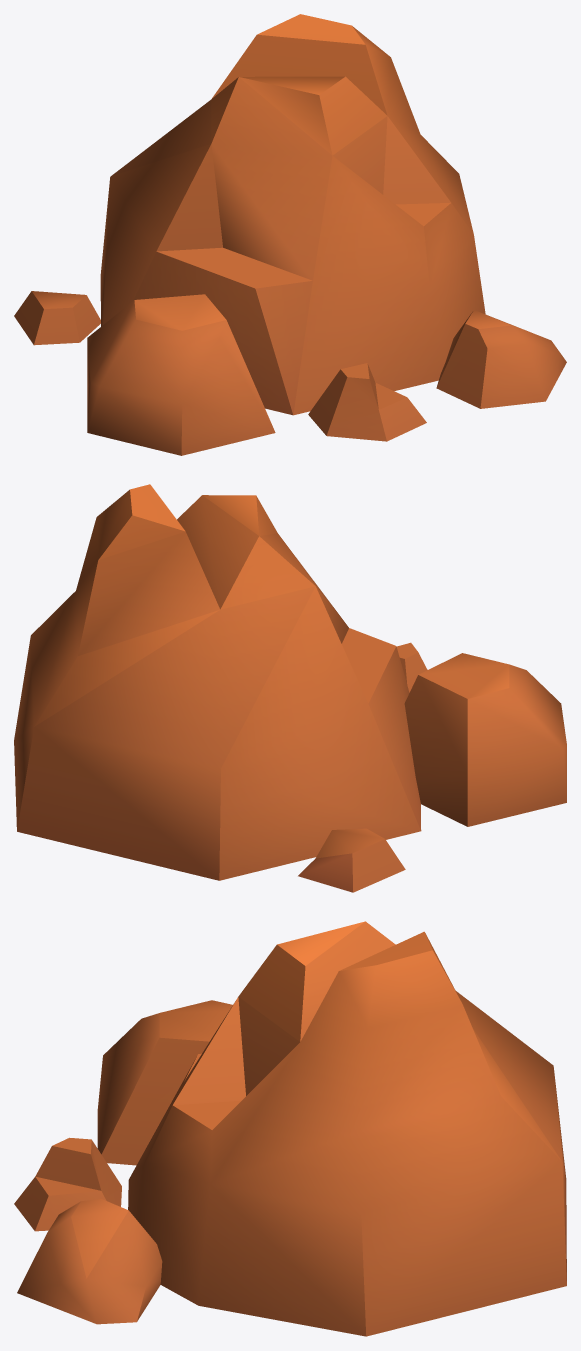
The model's file is kaykit_rocks_b_v01.glb.
3 views of the same model, one above another, from view 1: azimuth 30°, elevation 25°; view 2: azimuth 150°, elevation 25°; view 3: azimuth 270°, elevation 25° (orthographic). The views are drawn at different scales.
Visible parts, largest first — view 1: rocks_B; view 2: rocks_B; view 3: rocks_B.
Part boxes in pixels (left/top/right/bottom): rocks_B: left=14, top=14, right=566, bottom=455; rocks_B: left=14, top=484, right=566, bottom=892; rocks_B: left=14, top=921, right=566, bottom=1336.
Bounding box in the file's own units: 1.88 × 1.07 × 1.74.
Materials: 1 (1 with a texture image).
